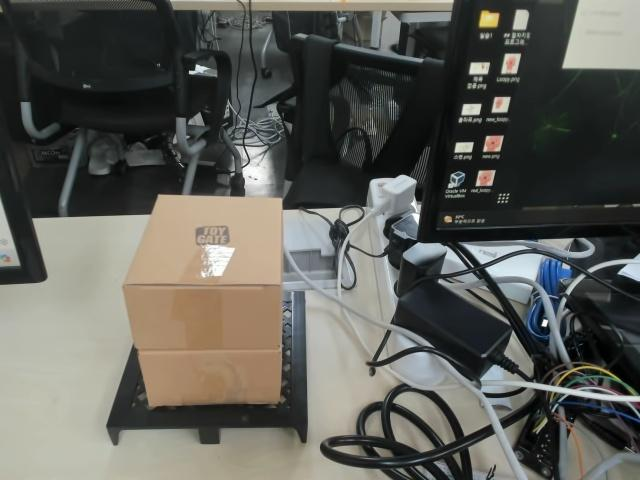box: (103, 193, 309, 443)
